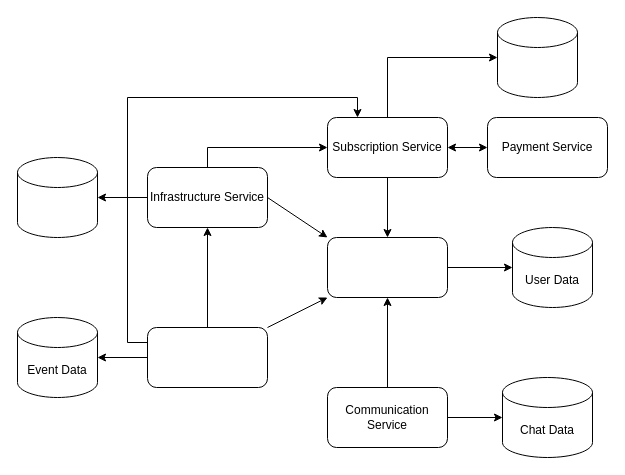
Image size: 625x475. Some labels were removed from this diagram. The centre of each missing label's shape, as x and y in pixels:
"Events Service" belongs at pixel 207 357.
"Infrastructure Data" belongs at pixel 57 197.
"Subscription Data" belongs at pixel 537 57.
"User management Service" belongs at pixel 387 267.
